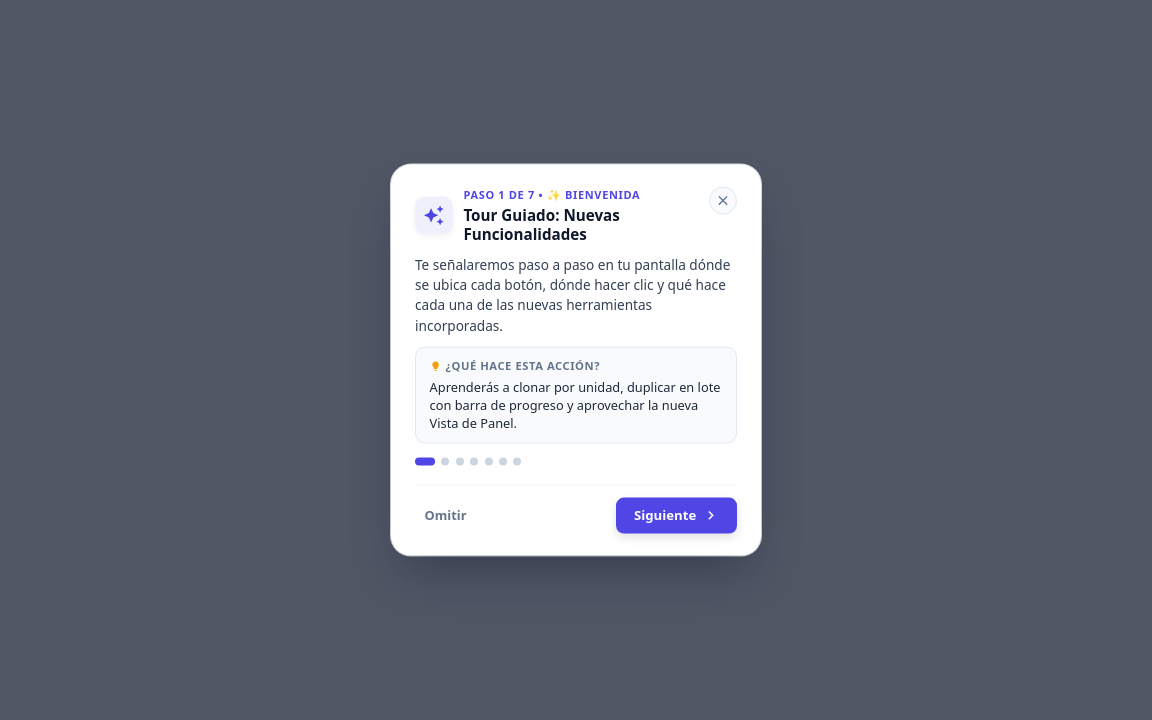
it: EvaluacionesSpotlightTour › avanza paso a paso señalando cada botón y acción
Click the button "Siguiente".
click(677, 515)  # box top-left (616, 497), bottom-right (737, 533)
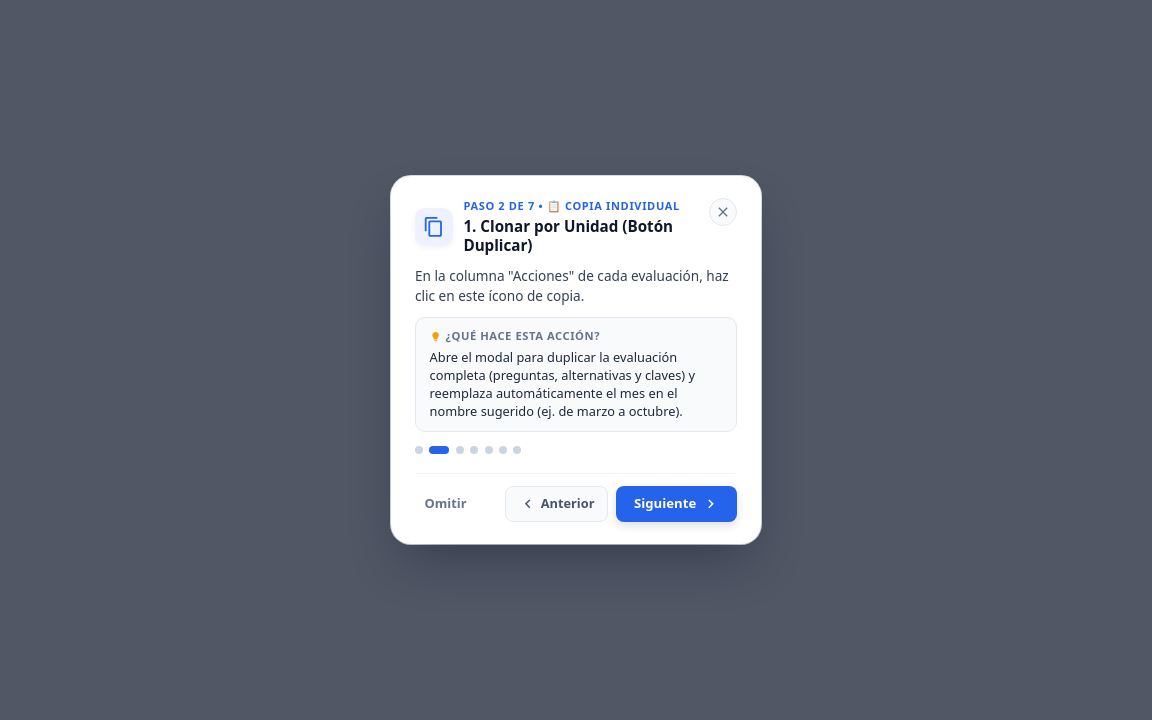
Result: the heading "1. Clonar por Unidad (Botón Duplicar)" is shown at top-left (463, 217), bottom-right (697, 255)
Result: the text "En la columna \"Acciones\" de cada evaluación, haz clic en este ícono de copia" is shown at top-left (415, 266), bottom-right (729, 305)
Click the button "Siguiente".
click(677, 504)  # box top-left (616, 486), bottom-right (737, 522)
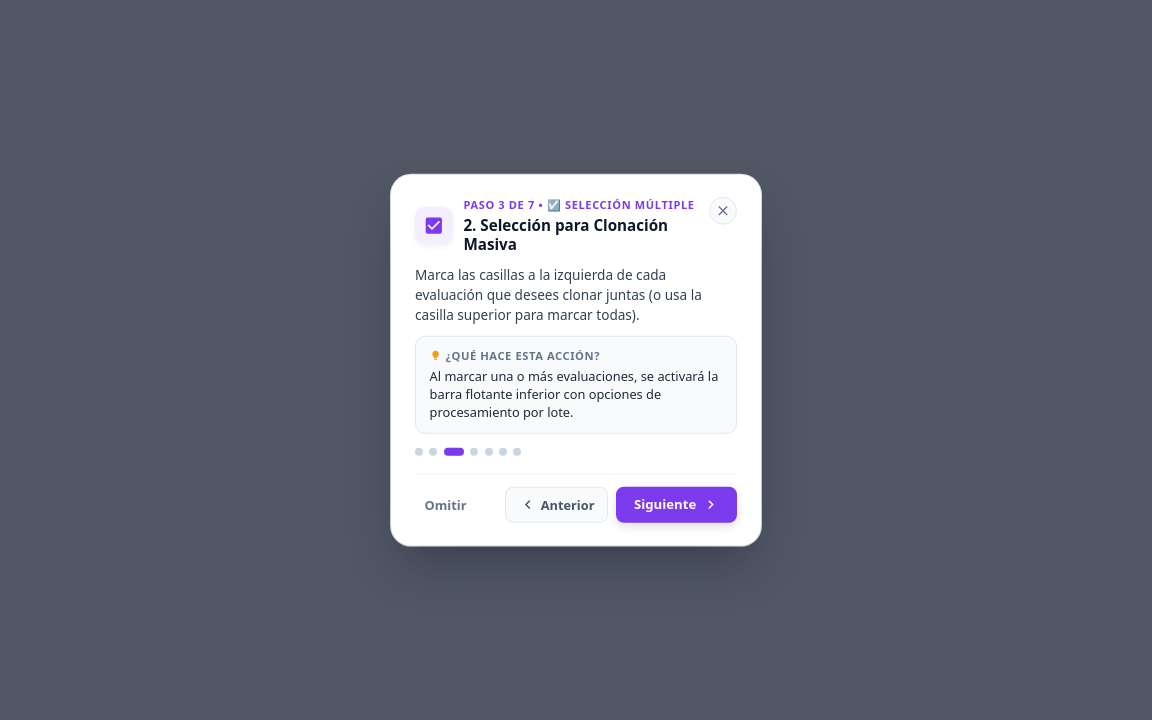
Result: the heading "2. Selección para Clonación Masiva" is shown at top-left (463, 216), bottom-right (697, 254)
Click the button "Siguiente".
click(677, 505)  # box top-left (616, 487), bottom-right (737, 523)
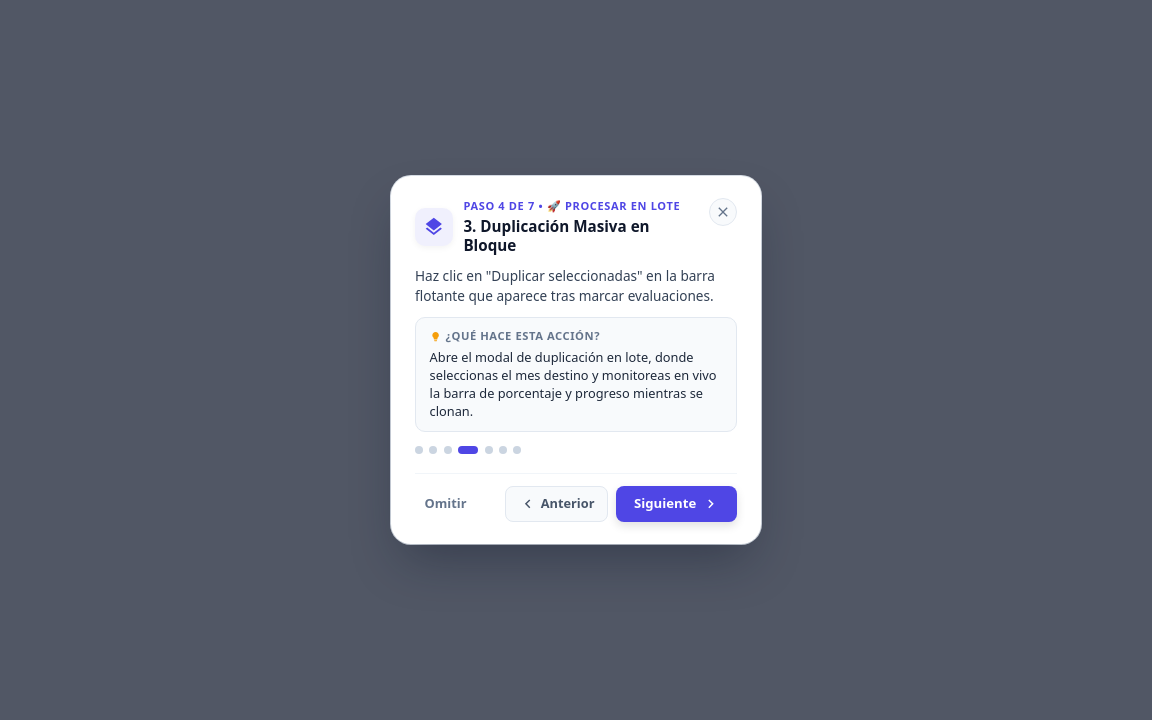
Result: the heading "3. Duplicación Masiva en Bloque" is shown at top-left (463, 216), bottom-right (650, 255)
Result: the text "Haz clic en \"Duplicar seleccionadas\" en la barra flotante" is shown at top-left (415, 266), bottom-right (715, 305)
Click the button "Siguiente".
click(677, 504)  # box top-left (616, 486), bottom-right (737, 522)
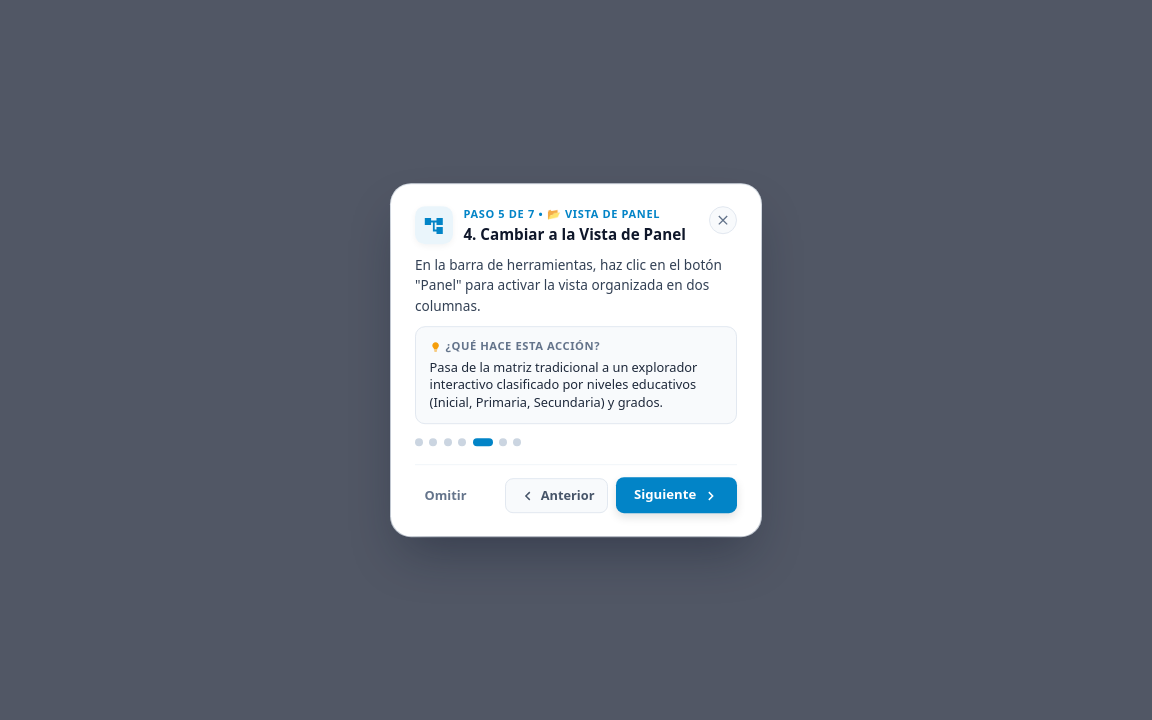
Result: the heading "4. Cambiar a la Vista de Panel" is shown at top-left (463, 226), bottom-right (686, 244)
Result: the text "En la barra de herramientas, haz clic en el botón \"Panel\"" is shown at top-left (415, 255), bottom-right (722, 315)
Click the button "Siguiente".
click(677, 496)  # box top-left (616, 478), bottom-right (737, 513)
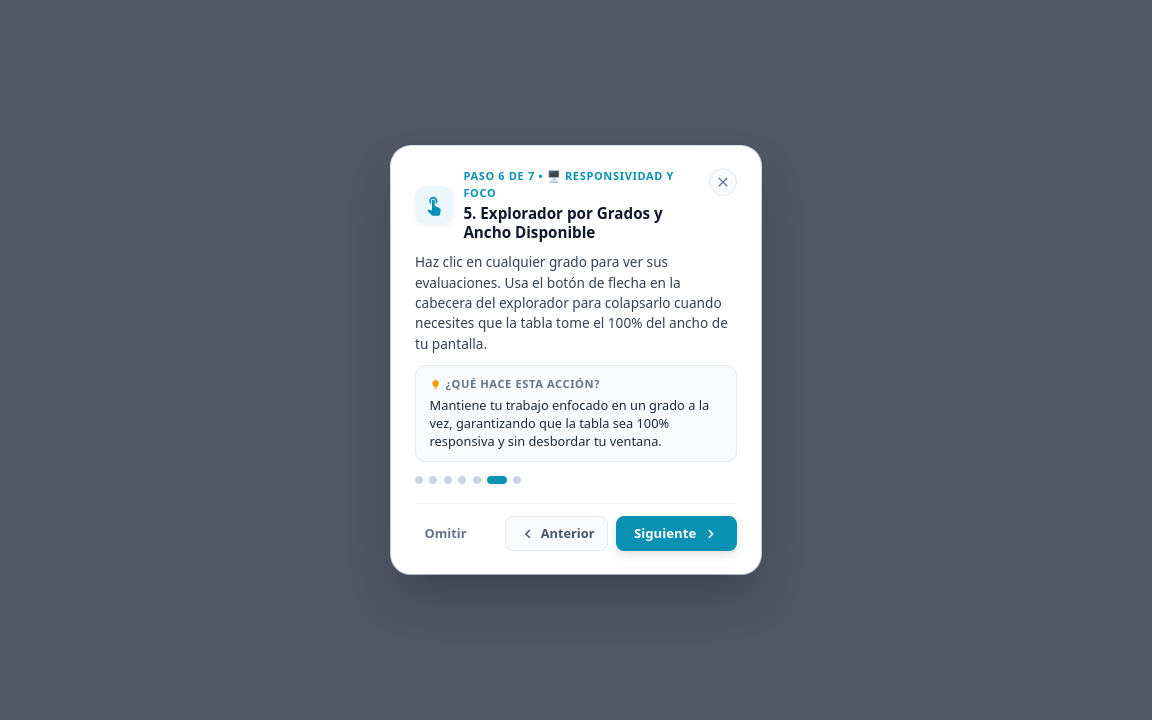
Result: the heading "5. Explorador por Grados y Ancho Disponible" is shown at top-left (463, 204), bottom-right (697, 242)
Click the button "Siguiente".
click(677, 534)  # box top-left (616, 516), bottom-right (737, 552)
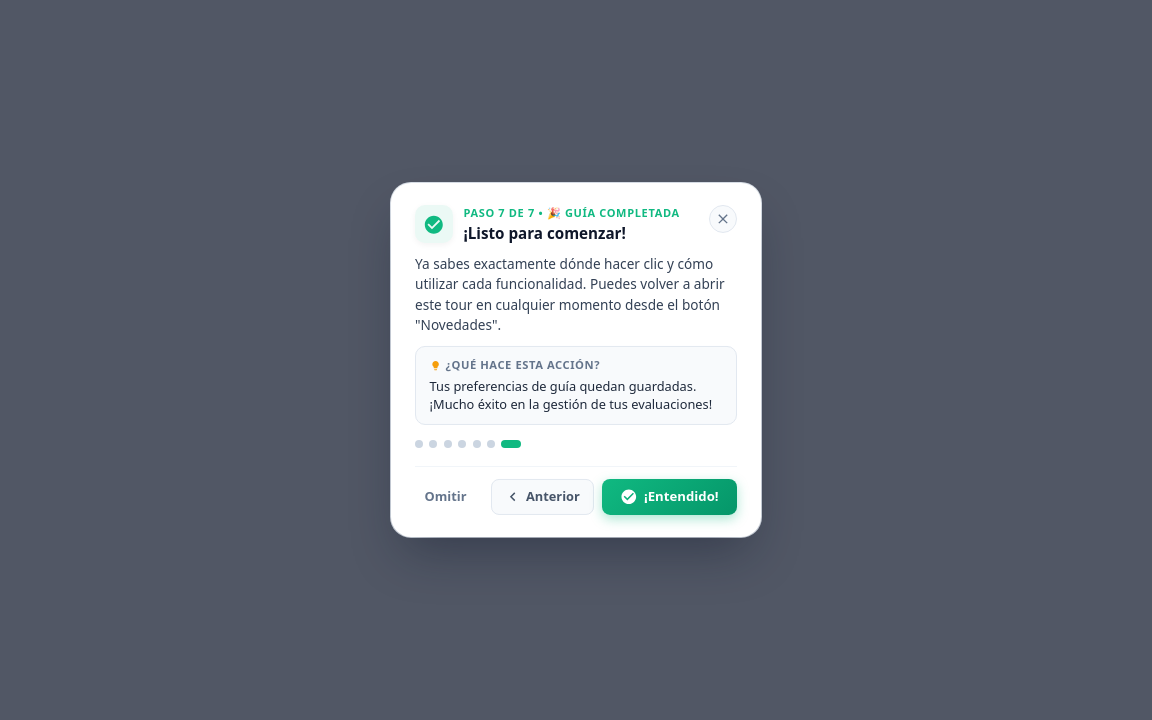
Result: the heading "¡Listo para comenzar!" is shown at top-left (463, 223), bottom-right (626, 243)
Result: the text "¡Entendido!" is shown at top-left (644, 487), bottom-right (719, 507)
